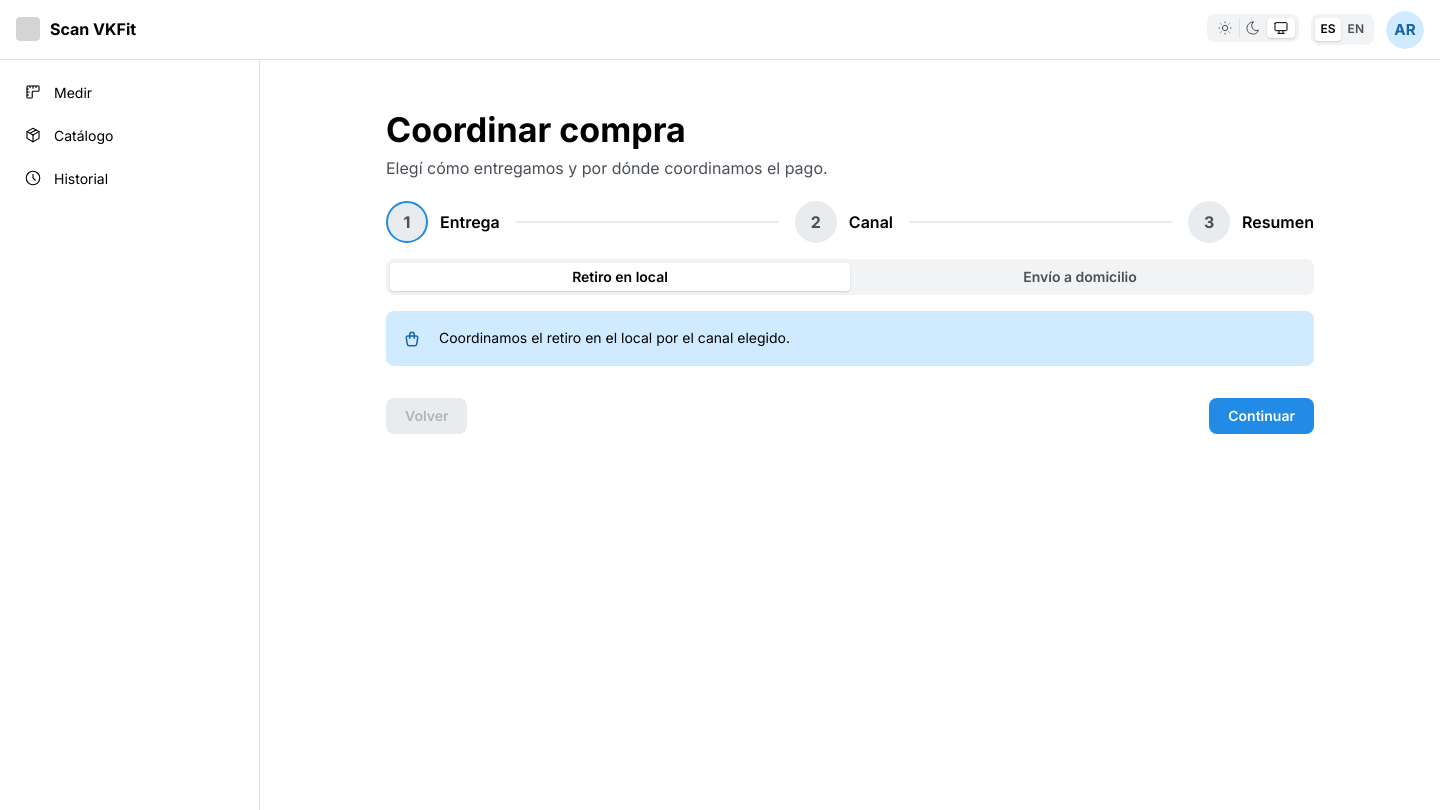
Test case: checkout (flujo completo) › informa el conflicto de stock sin perder la selección
The width and height of the screenshot is (1440, 810).
Click the button "Continuar" at (1262, 416), box [1209, 398, 1314, 434]
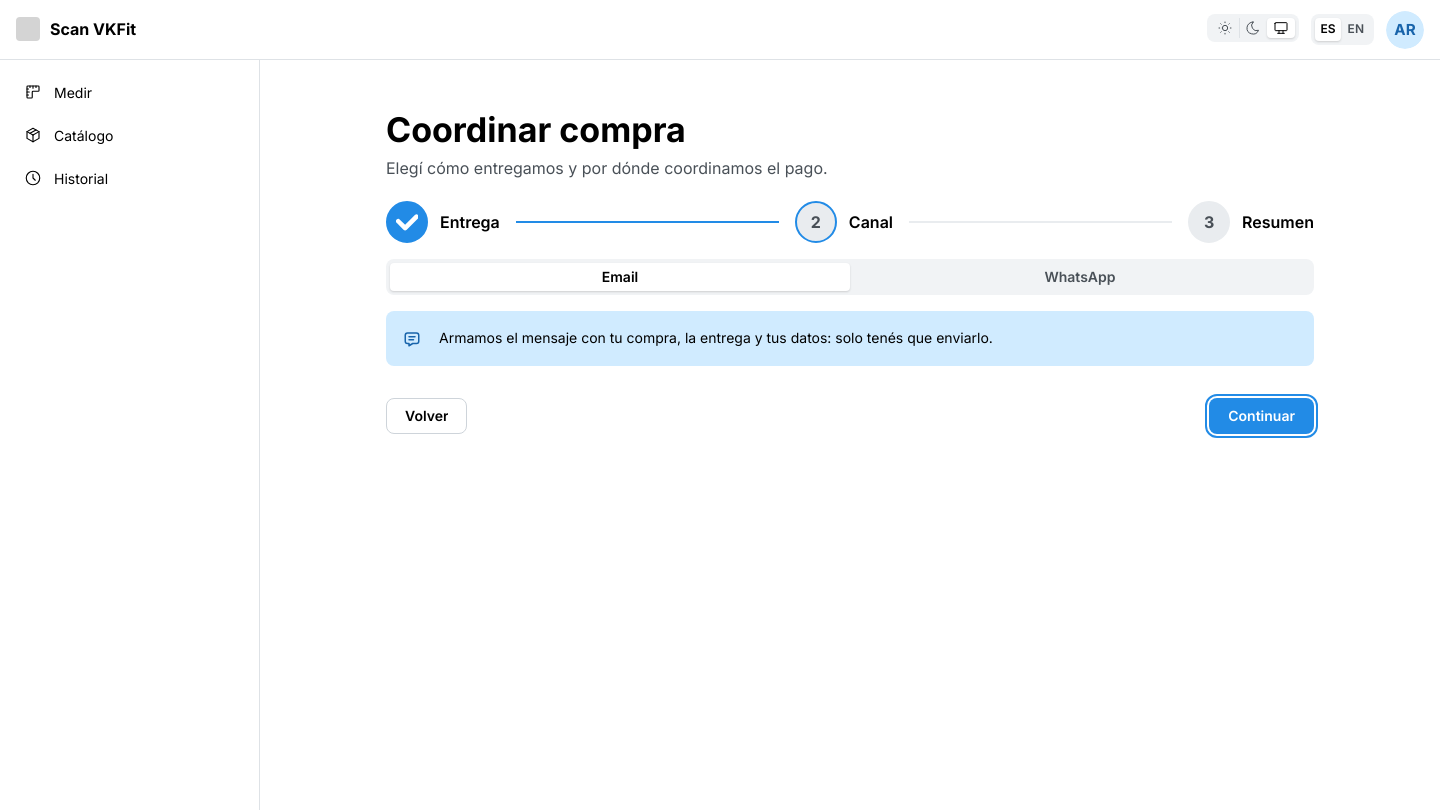
Click the button "Continuar" at (1262, 416), box [1209, 398, 1314, 434]
(page scrolled)
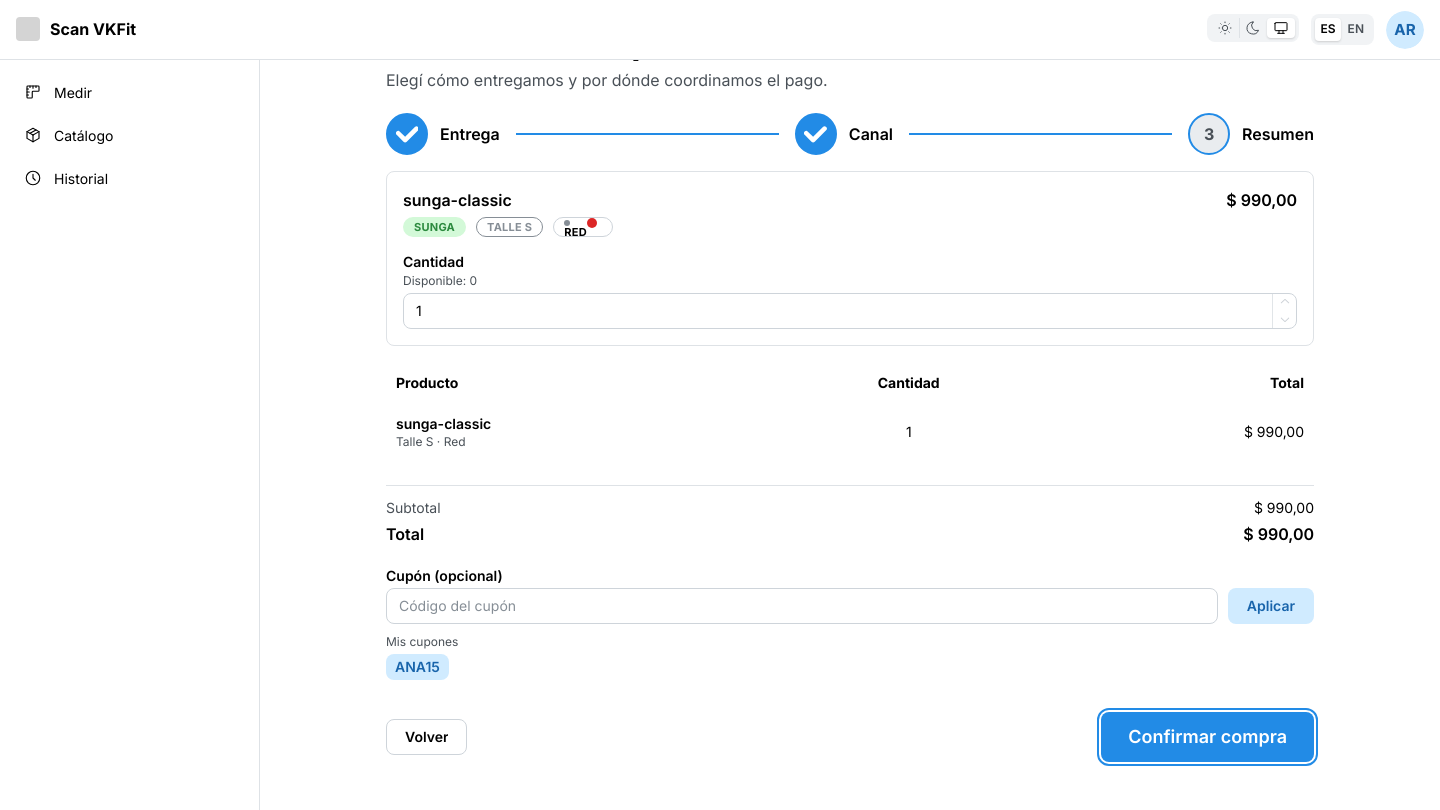
Click the button "Confirmar compra" at (1208, 737), box [1101, 712, 1314, 762]
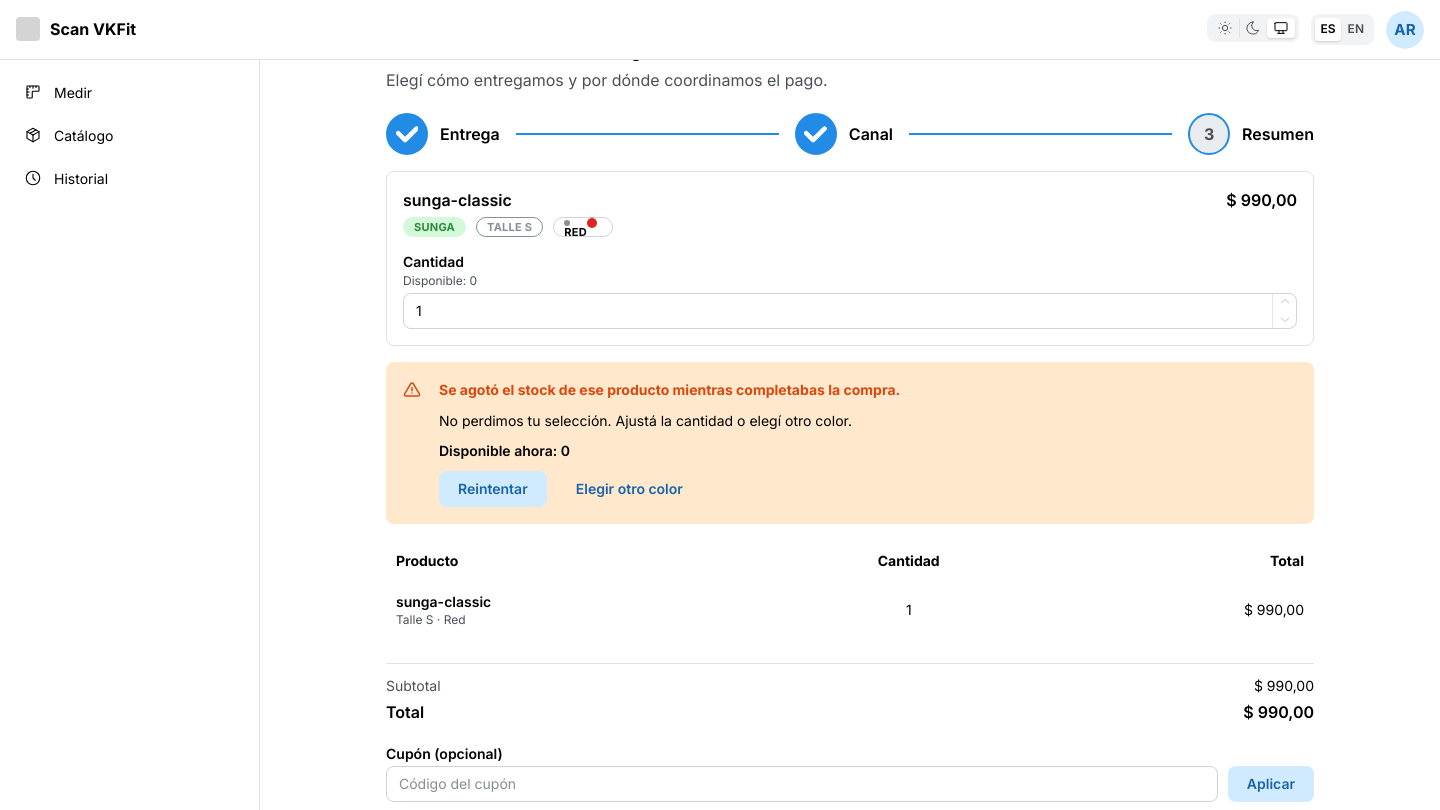
Now the text "Se agotó el stock de ese producto mientras completabas la compra." is shown, box [439, 379, 900, 401]
Now the text "No perdimos tu selección. Ajustá la cantidad o elegí otro color." is shown, box [439, 412, 852, 429]
Now the text "Disponible ahora: 0" is shown, box [439, 442, 570, 459]
